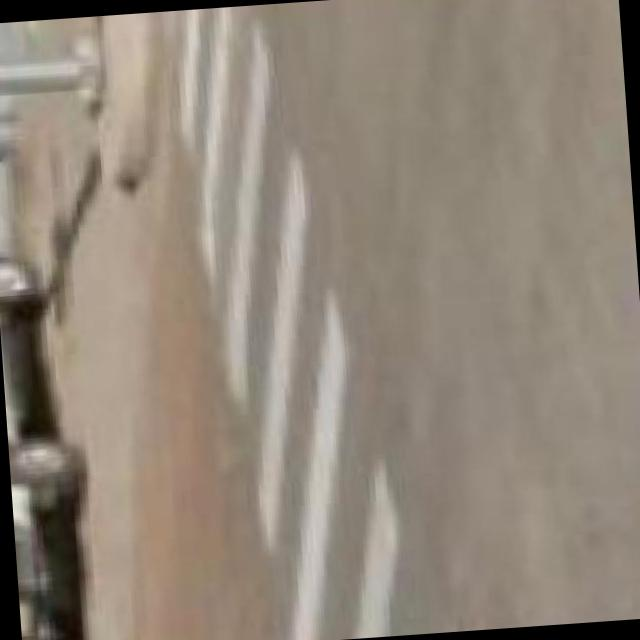zebra: (156, 5, 422, 640)
